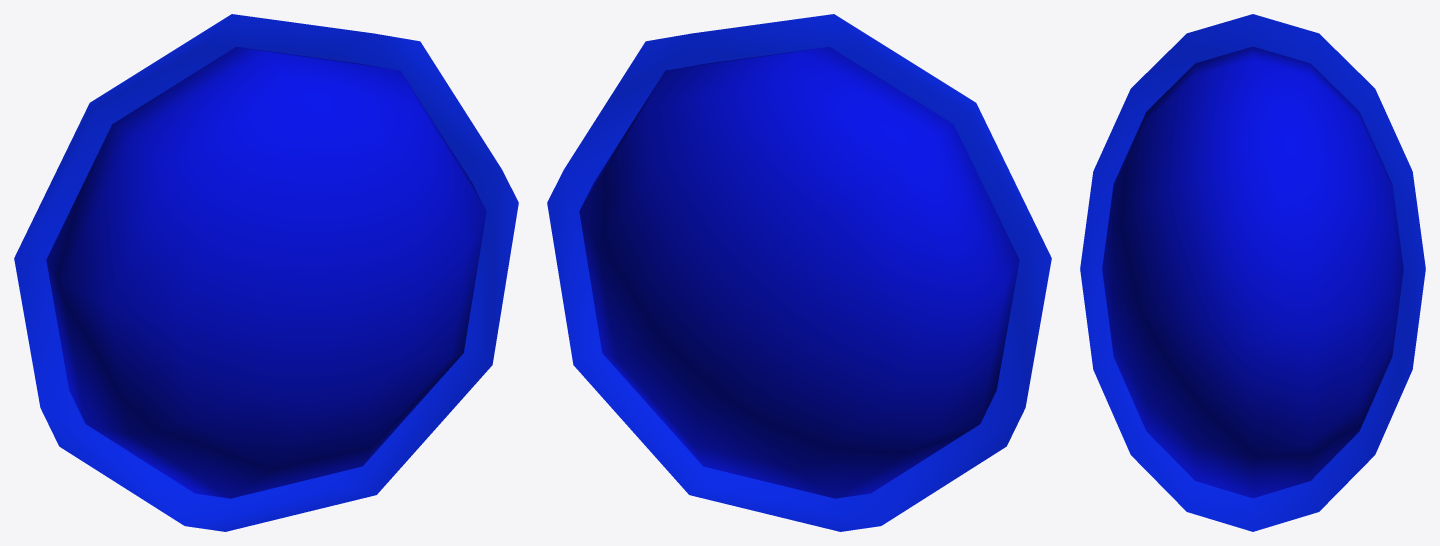
Rendered from Jumpabll.glb.
3 renders of one model, left to right at view 1: azimuth 30°, elevation 25°; view 2: azimuth 150°, elevation 25°; view 3: azimuth 270°, elevation 25°, orthographic. The views are drawn at different scales.
Visible parts, largest first — view 1: Sphere; view 2: Sphere; view 3: Sphere.
Part boxes in pixels (left/top/right/bottom): Sphere: left=14, top=14, right=518, bottom=531; Sphere: left=547, top=14, right=1051, bottom=531; Sphere: left=1080, top=14, right=1425, bottom=531.
Size of the model in its own units: 2.26 by 2.22 by 1.5.
Materials: 2 (2 with a texture image).
